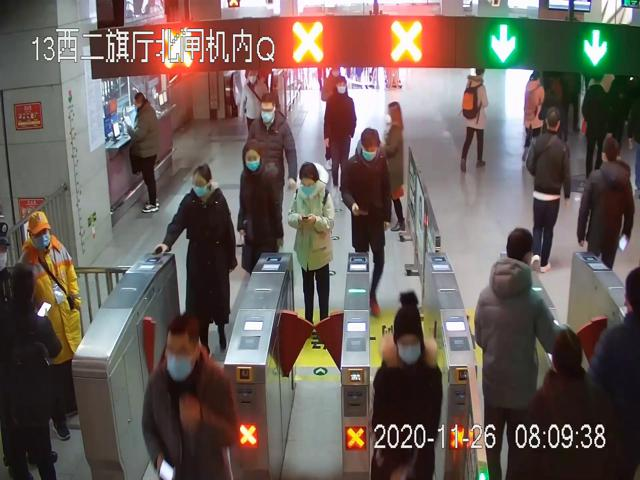person: (470, 227, 558, 480), (17, 215, 83, 441), (168, 163, 237, 355), (343, 130, 393, 317), (289, 162, 336, 327), (248, 92, 298, 245), (527, 110, 571, 273), (236, 142, 284, 279), (127, 91, 162, 214), (322, 78, 349, 189), (462, 68, 488, 174)
